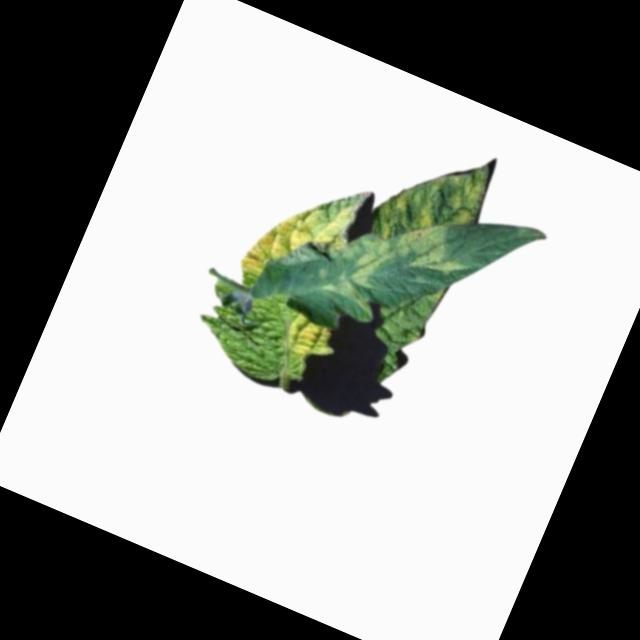Leaf_Mold: (320, 192, 476, 345), (366, 125, 500, 269), (235, 178, 356, 304), (278, 309, 345, 367)
